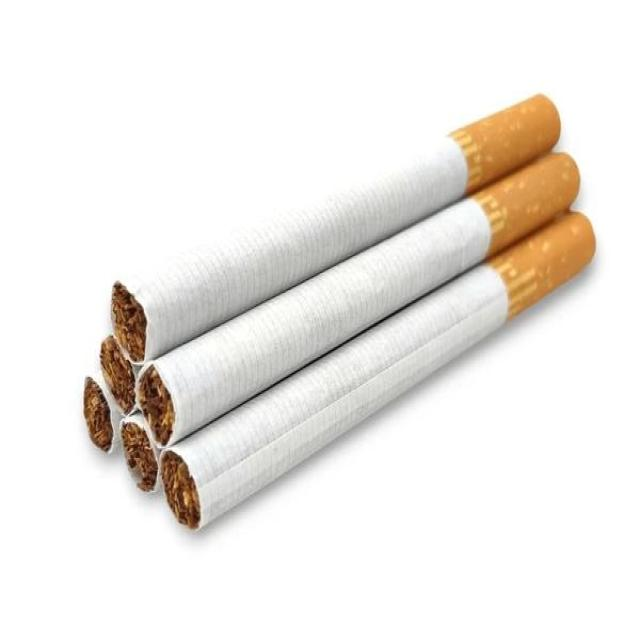cigarette: (161, 213, 597, 530), (139, 153, 580, 448), (112, 95, 561, 363), (100, 332, 139, 417), (121, 412, 160, 492), (84, 374, 122, 454)
